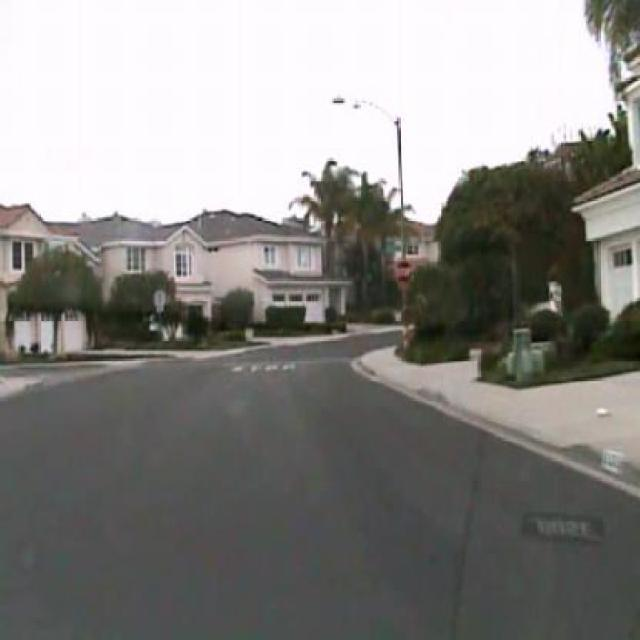stop: (395, 258, 414, 286)
